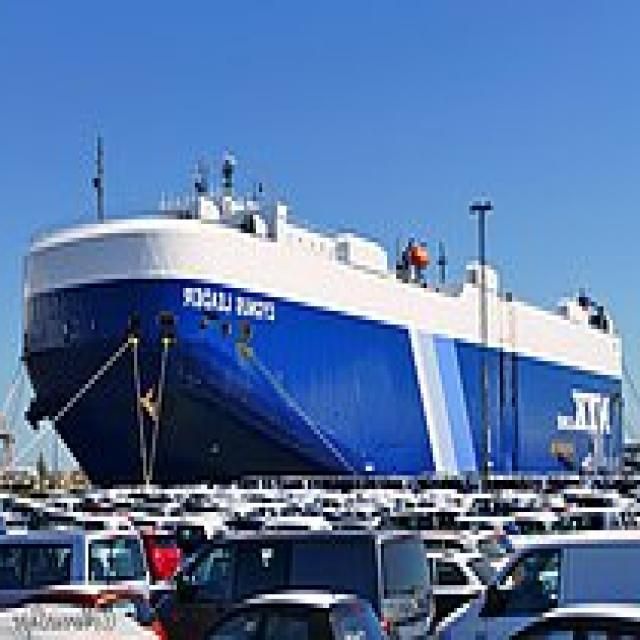Carrier: (21, 119, 631, 489)
